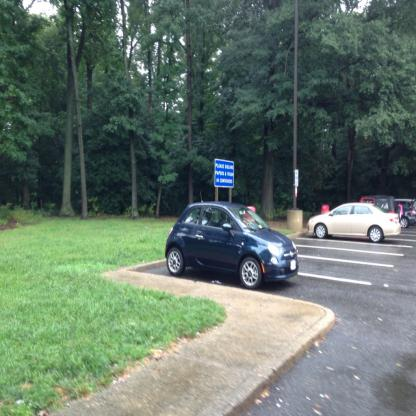Car: (165, 192, 302, 290), (306, 199, 401, 244)
